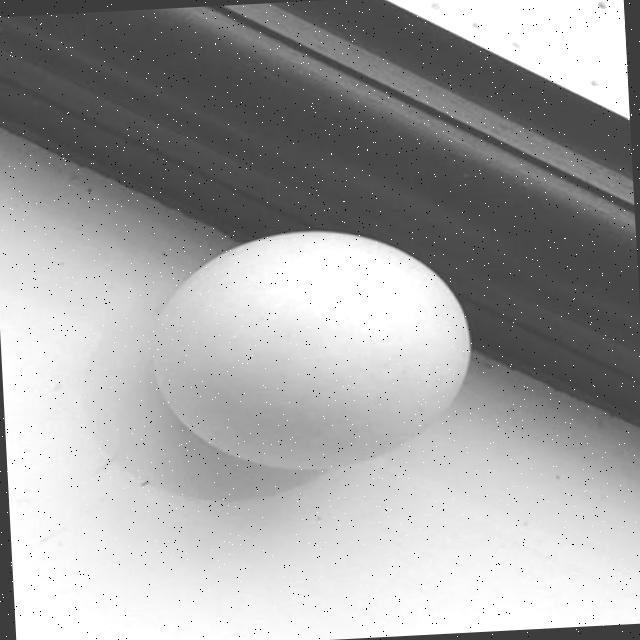ping-pong-ball: (148, 226, 480, 472)
